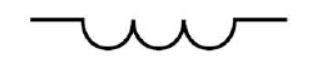inductor: (71, 3, 243, 57)
